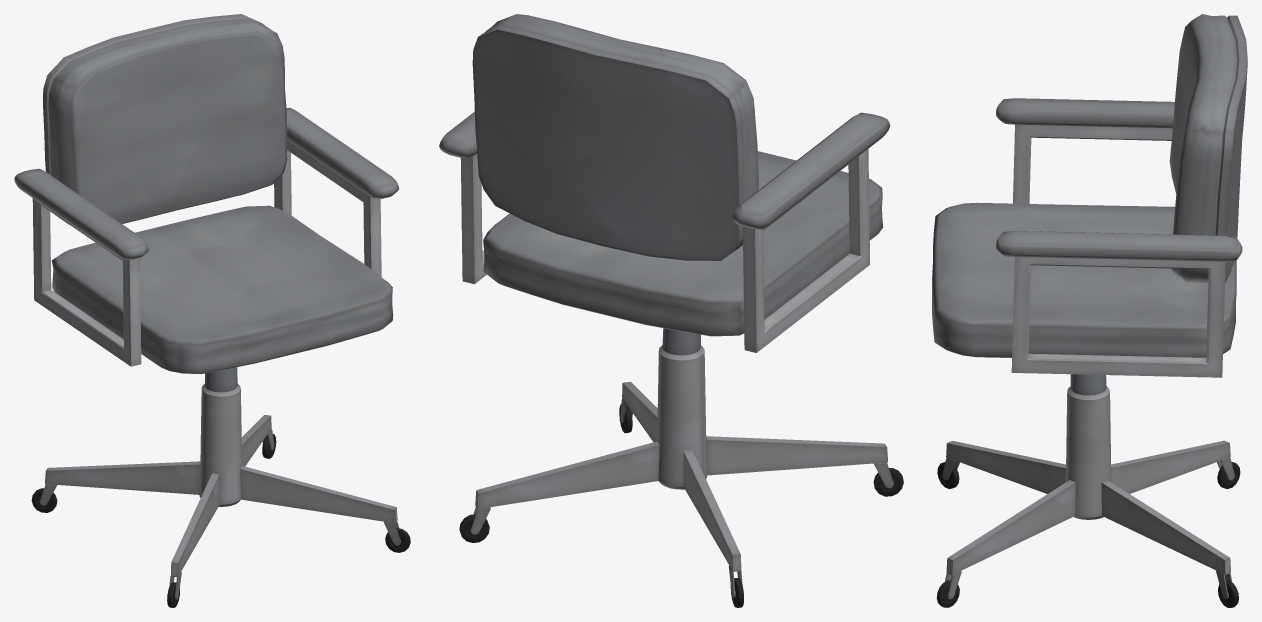
Rendered from RetroChair_FBX.fbx.
The picture shows the model from 3 angles, left to right: view 1: azimuth 30°, elevation 25°; view 2: azimuth 150°, elevation 25°; view 3: azimuth 270°, elevation 25°; orthographic projection. The views are drawn at different scales.
Parts seen in each view (by area): view 1: pCube4; view 2: pCube4; view 3: pCube4.
Boxes of the visible parts, x1,y1,x2,y2 form: pCube4: (14, 14, 410, 607); pCube4: (439, 14, 903, 607); pCube4: (932, 14, 1247, 607).
Size of the model in its own units: 66.91 by 104 by 60.62.
